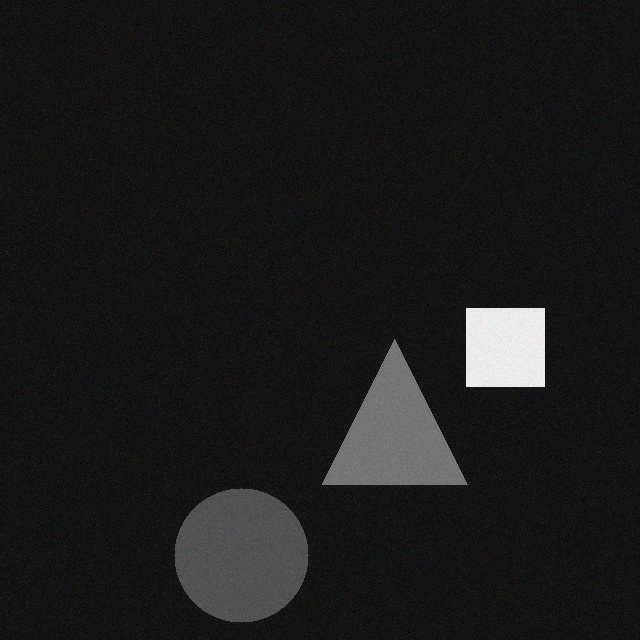circle: (188, 496, 322, 630)
square: (480, 316, 558, 394)
triangle: (336, 347, 481, 492)
